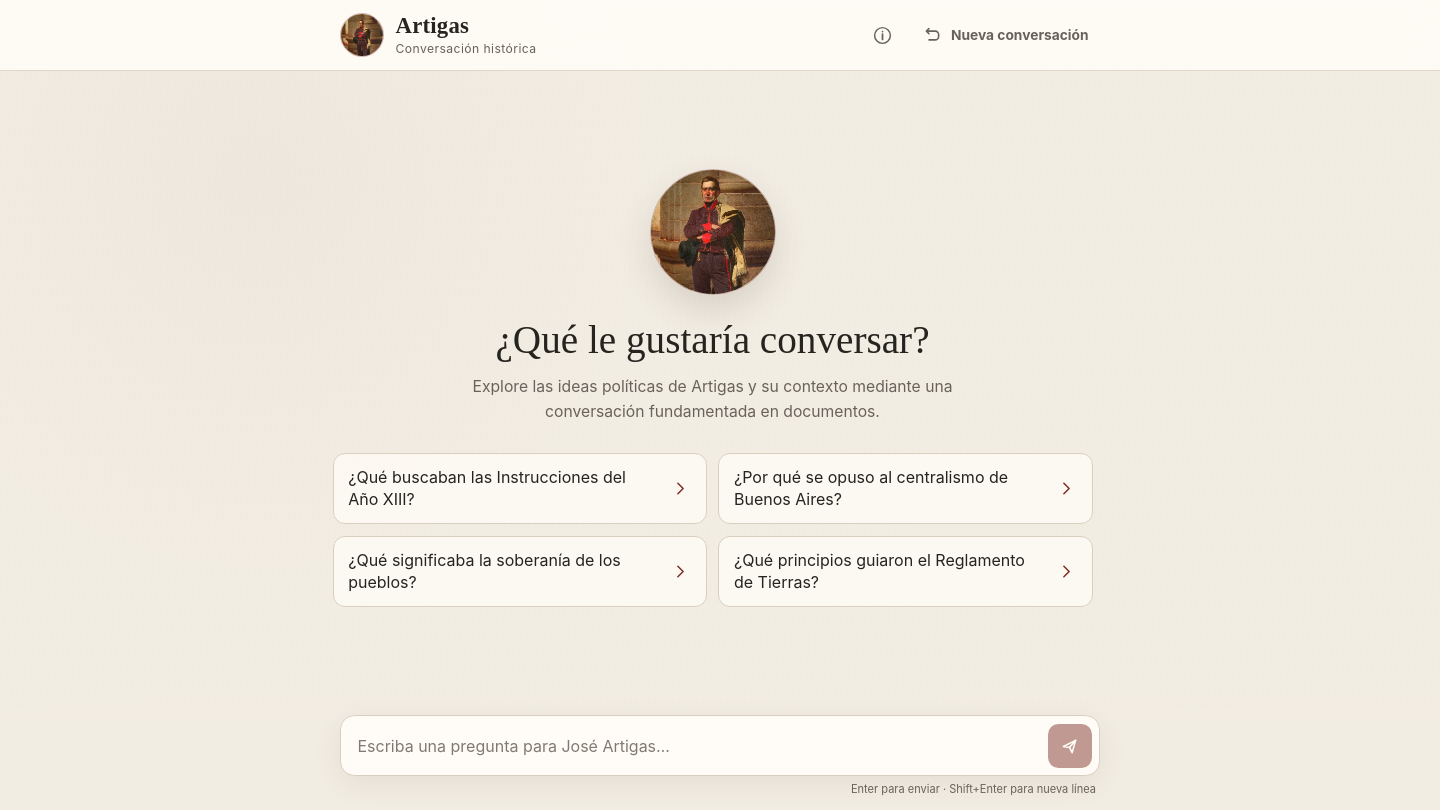
Scenario: ChatPage › shows the museum welcome state only before the first submission
Expected: the heading "¿Qué le gustaría conversar?" is shown, [495,317,930,362]
Expected: the text "Conversación histórica" is shown, [396,41,536,56]
Type "¿Qué defendía?" into the text box labelled "pregunta para José Artigas" at (694, 746), box [348,723,1041,768]
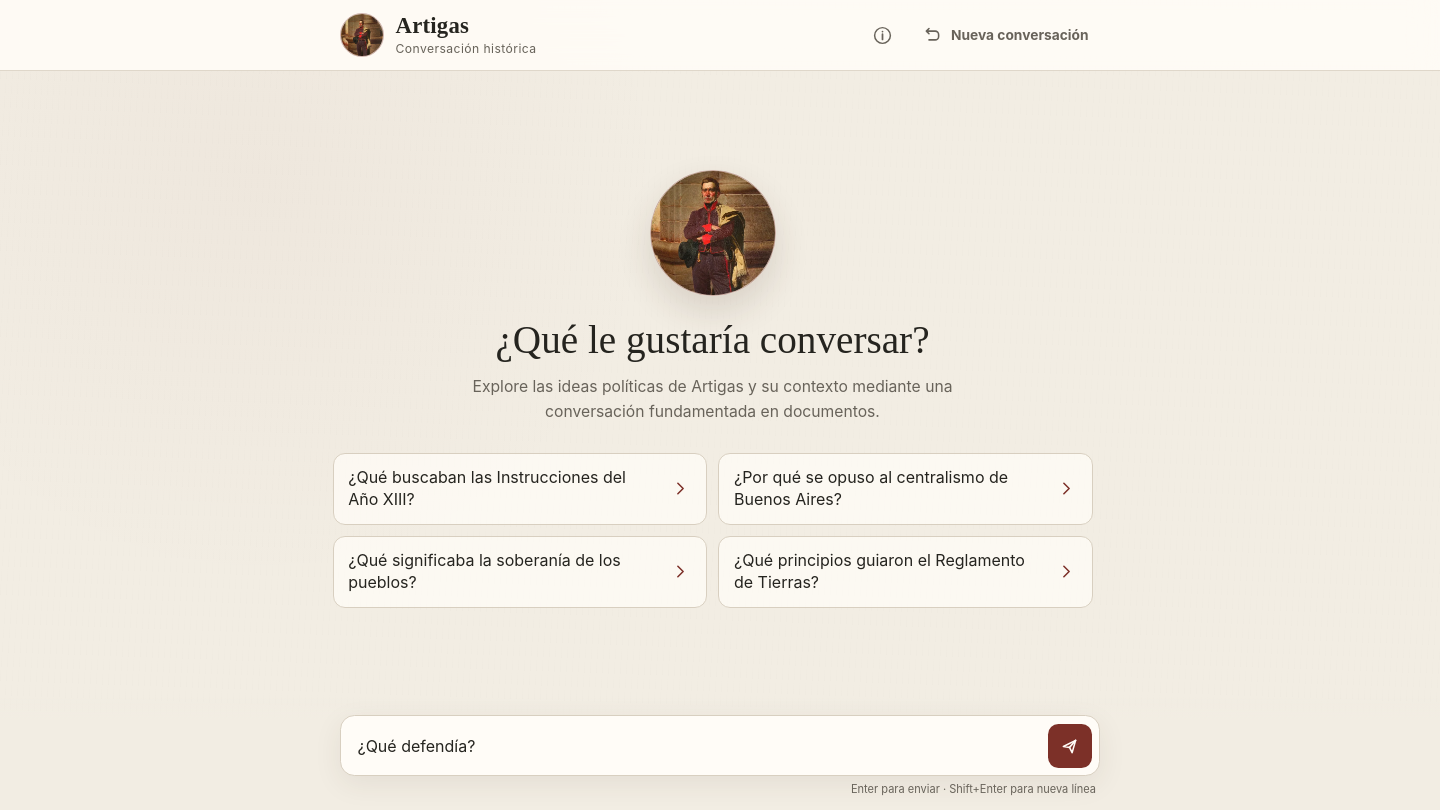
Click the button named "Enviar" at (1070, 746), box [1048,724,1092,768]
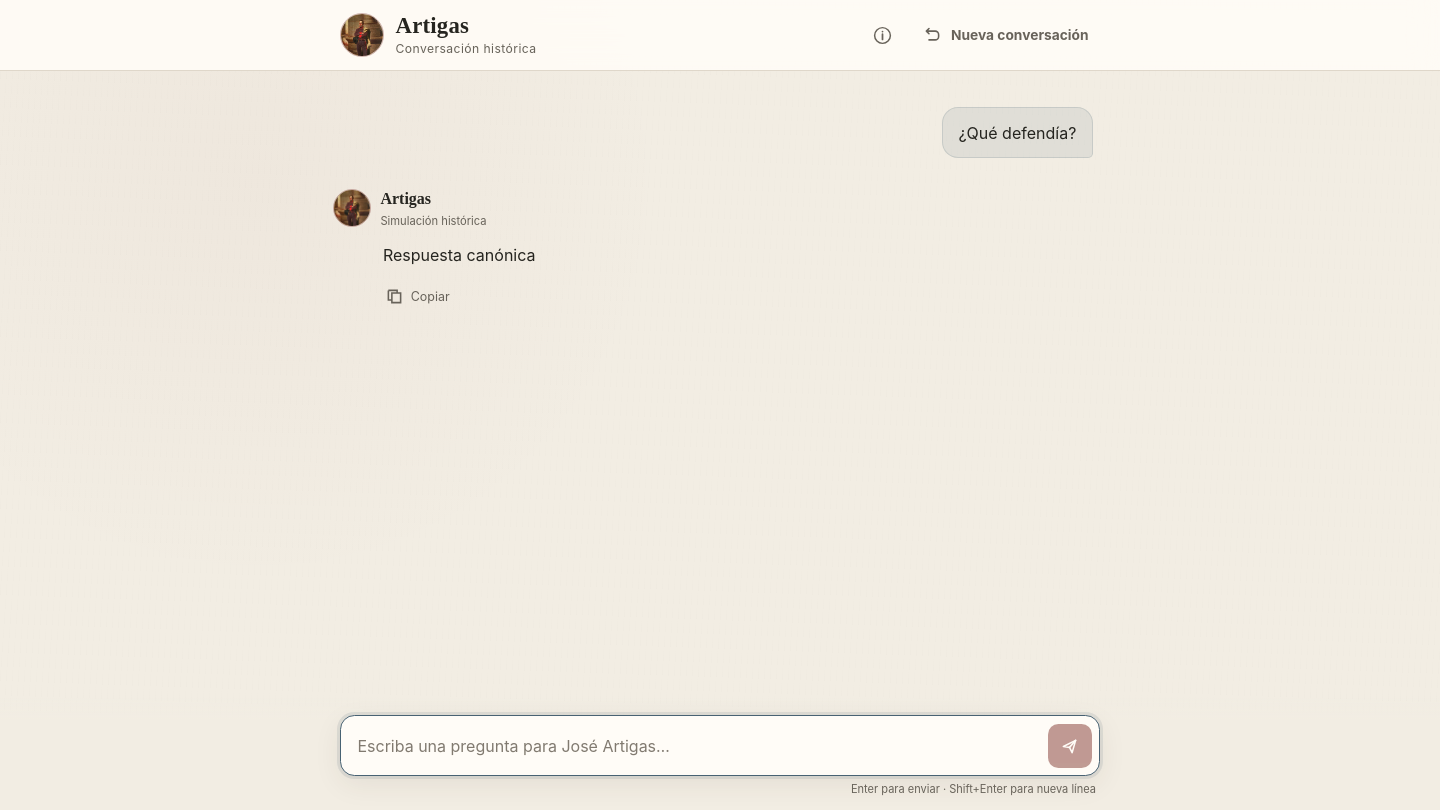
Expected: the heading "¿Qué le gustaría conversar?" is gone
